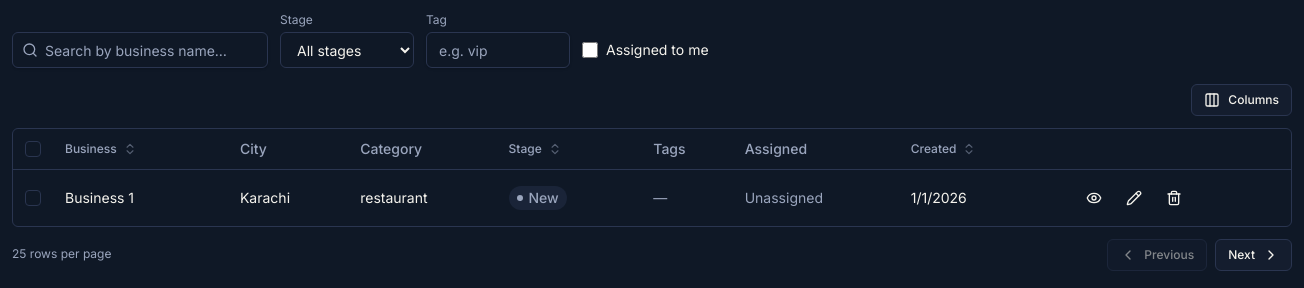
LeadListTable › pages forward and back using the cursor the backend actually returns, not a page index
Expected: the text "Business 1" is shown, [53, 169, 228, 226]
Expected: the button "Previous" is disabled, [1107, 238, 1207, 270]
Click the button "Next" at (1254, 254), box [1215, 238, 1292, 270]
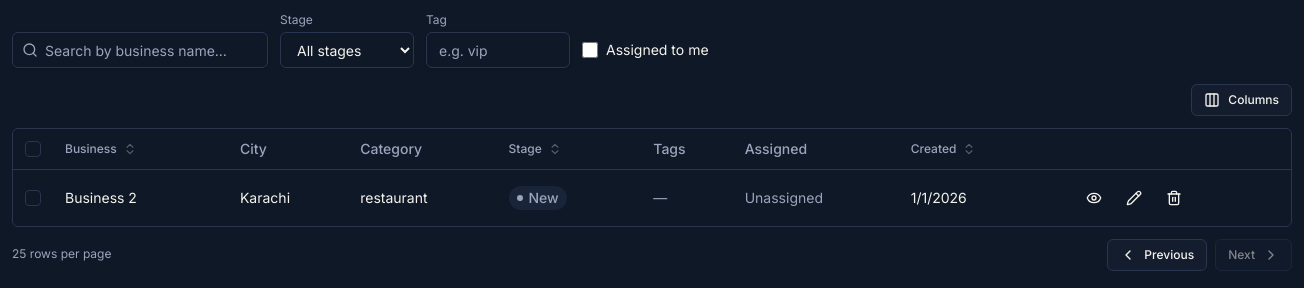
Now the text "Business 2" is shown, box [53, 169, 228, 226]
Click the button "Previous" at (1157, 254), box [1107, 238, 1207, 270]
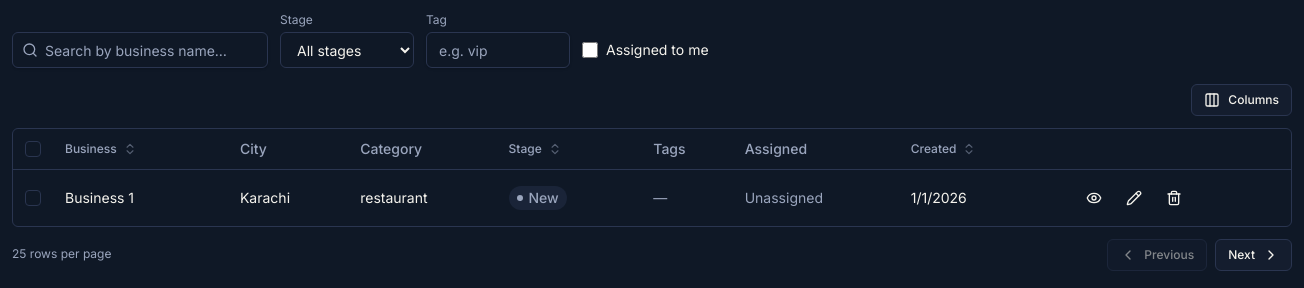
Now the text "Business 1" is shown, box [53, 169, 228, 226]
